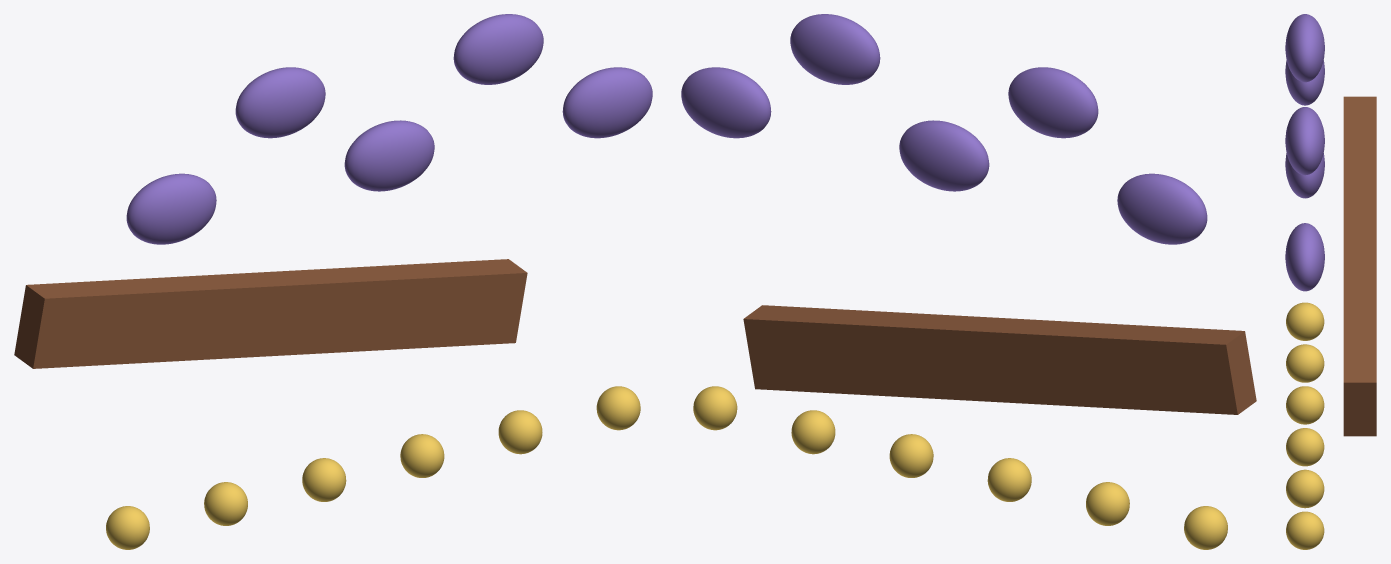
The model's file is bio-p1-decomposer.glb.
3 views of the same model, side by side, from view 1: azimuth 30°, elevation 25°; view 2: azimuth 150°, elevation 25°; view 3: azimuth 270°, elevation 25° (orthographic). The views are drawn at different scales.
Parts seen in each view (by area): view 1: fallen-leaf-litter, mushroom-cap-2, mushroom-cap-1, mushroom-cap-4, mushroom-cap-0, mushroom-cap-3, released-nutrient-dot-4, released-nutrient-dot-5, released-nutrient-dot-1, released-nutrient-dot-0, released-nutrient-dot-3, released-nutrient-dot-2; view 2: fallen-leaf-litter, mushroom-cap-2, mushroom-cap-4, mushroom-cap-0, mushroom-cap-1, mushroom-cap-3, released-nutrient-dot-4, released-nutrient-dot-5, released-nutrient-dot-1, released-nutrient-dot-0, released-nutrient-dot-3, released-nutrient-dot-2; view 3: fallen-leaf-litter, mushroom-cap-1, mushroom-cap-4, mushroom-cap-3, released-nutrient-dot-0, released-nutrient-dot-1, released-nutrient-dot-4, released-nutrient-dot-5, released-nutrient-dot-2, released-nutrient-dot-3, mushroom-cap-0, mushroom-cap-2.
Boxes of the visible parts, <box> form: fallen-leaf-litter: <box>14,259,527,368</box>; mushroom-cap-2: <box>344,120,434,191</box>; mushroom-cap-1: <box>235,67,325,138</box>; mushroom-cap-4: <box>562,67,652,138</box>; mushroom-cap-0: <box>126,173,216,244</box>; mushroom-cap-3: <box>453,14,543,84</box>; released-nutrient-dot-4: <box>498,410,542,454</box>; released-nutrient-dot-5: <box>596,386,640,430</box>; released-nutrient-dot-1: <box>204,482,247,525</box>; released-nutrient-dot-0: <box>106,506,149,549</box>; released-nutrient-dot-3: <box>400,434,444,477</box>; released-nutrient-dot-2: <box>302,458,346,501</box>; fallen-leaf-litter: <box>743,305,1256,414</box>; mushroom-cap-2: <box>899,120,989,191</box>; mushroom-cap-4: <box>681,67,771,138</box>; mushroom-cap-0: <box>1117,173,1207,244</box>; mushroom-cap-1: <box>1008,67,1098,138</box>; mushroom-cap-3: <box>790,14,880,84</box>; released-nutrient-dot-4: <box>791,410,835,454</box>; released-nutrient-dot-5: <box>693,386,737,430</box>; released-nutrient-dot-1: <box>1086,482,1129,525</box>; released-nutrient-dot-0: <box>1184,506,1227,549</box>; released-nutrient-dot-3: <box>889,434,933,477</box>; released-nutrient-dot-2: <box>987,458,1031,501</box>; fallen-leaf-litter: <box>1343,96,1376,436</box>; mushroom-cap-1: <box>1285,14,1324,82</box>; mushroom-cap-4: <box>1285,223,1324,291</box>; mushroom-cap-3: <box>1285,107,1324,175</box>; released-nutrient-dot-0: <box>1286,302,1324,340</box>; released-nutrient-dot-1: <box>1286,344,1324,382</box>; released-nutrient-dot-4: <box>1286,469,1324,508</box>; released-nutrient-dot-5: <box>1286,511,1324,549</box>; released-nutrient-dot-2: <box>1286,386,1324,424</box>; released-nutrient-dot-3: <box>1286,428,1324,466</box>; mushroom-cap-0: <box>1285,60,1324,105</box>; mushroom-cap-2: <box>1285,153,1324,198</box>.
Size of what is drawn, in the model's own units: 1.09 by 0.7726 by 0.166.
